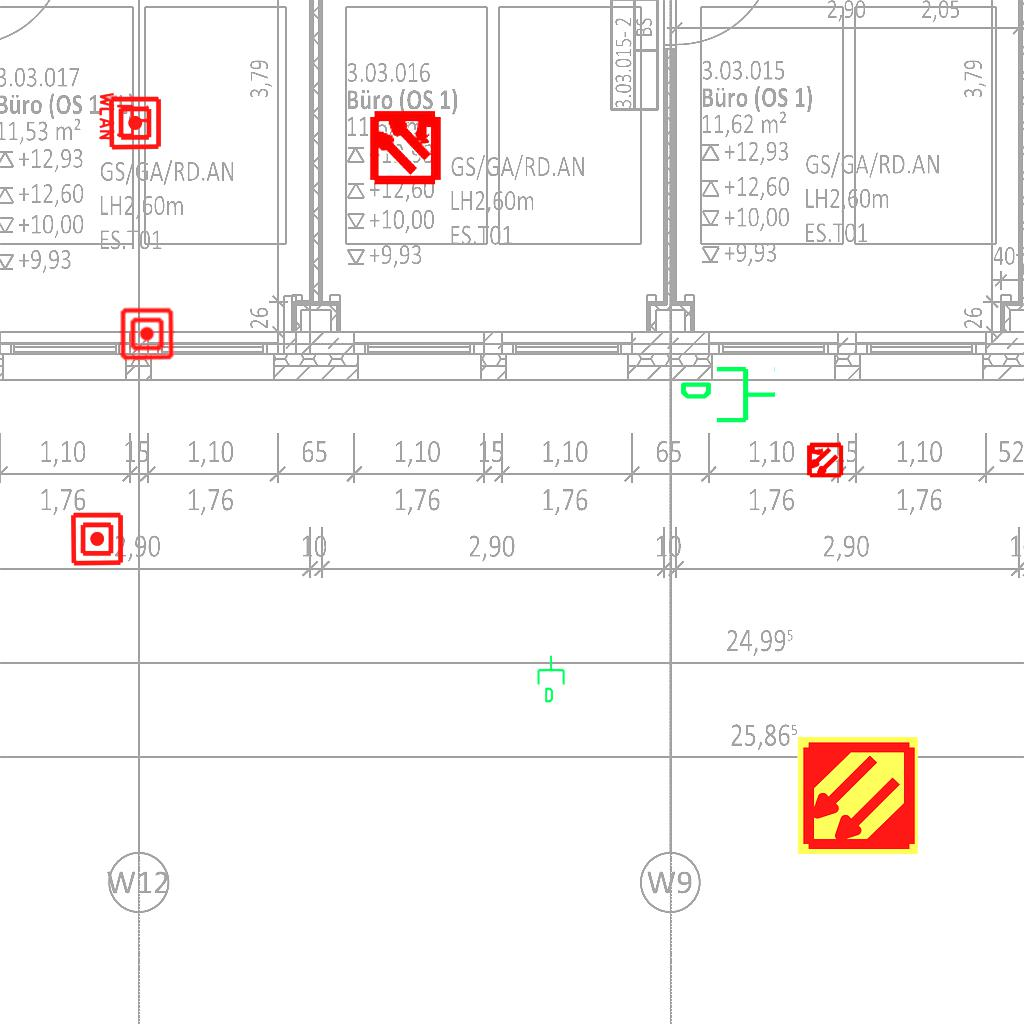ASR_Ansaugrauchmelder: (795, 733, 920, 858)
Datenanschluss_einfach: (678, 362, 778, 431), (535, 654, 569, 704)
NAM-Nichtautomatischer_Melder: (119, 306, 175, 362), (69, 511, 125, 567), (107, 95, 163, 151)
OT_Multisensormelder_(Kombination_RMO_WMD): (349, 89, 462, 202), (796, 432, 852, 488)
WLAN: (98, 90, 150, 142)
